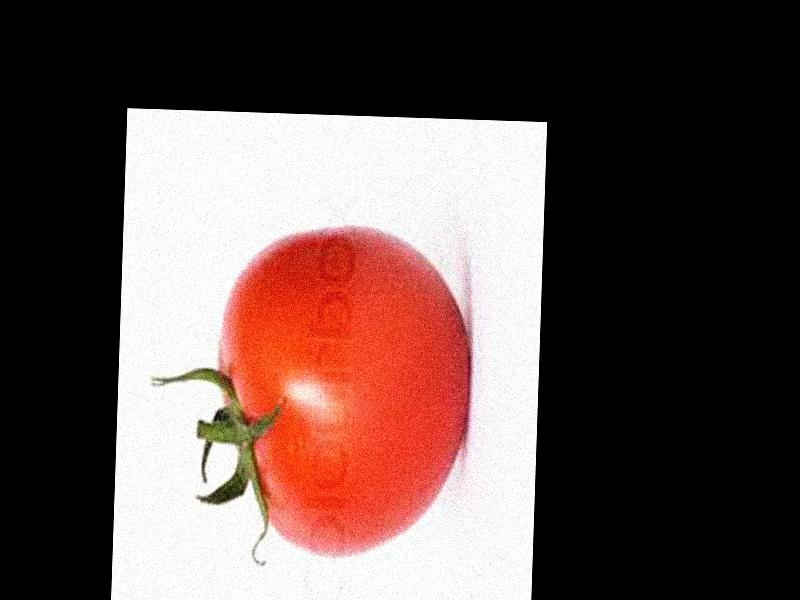Tomato: (211, 223, 471, 557)
